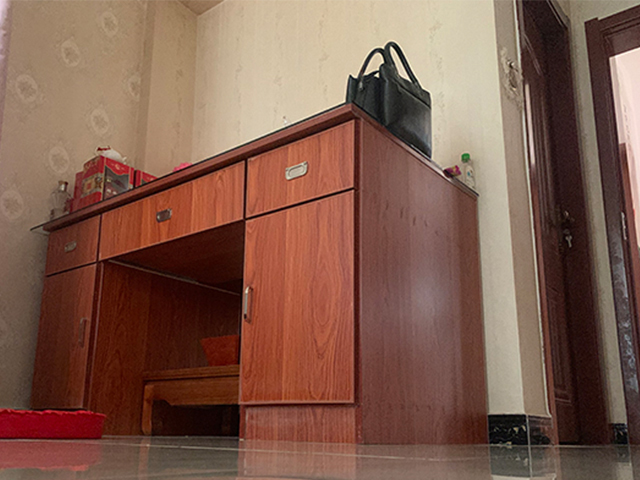table: (28, 102, 490, 445)
